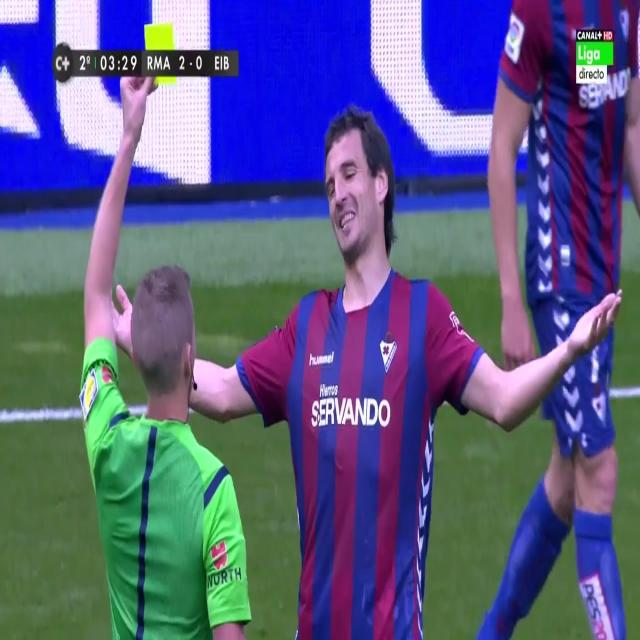Player: (190, 106, 624, 640), (481, 3, 639, 640)
Referee: (80, 59, 254, 638)
